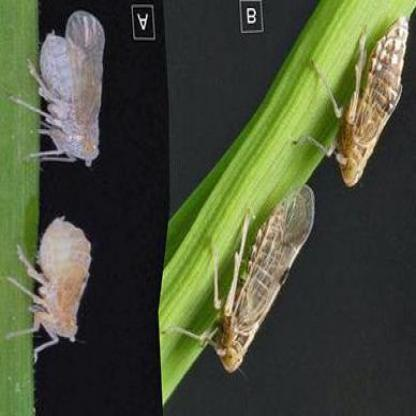brown-planthopper: (199, 182, 325, 374), (328, 13, 414, 187), (34, 13, 102, 164), (27, 222, 90, 355)
